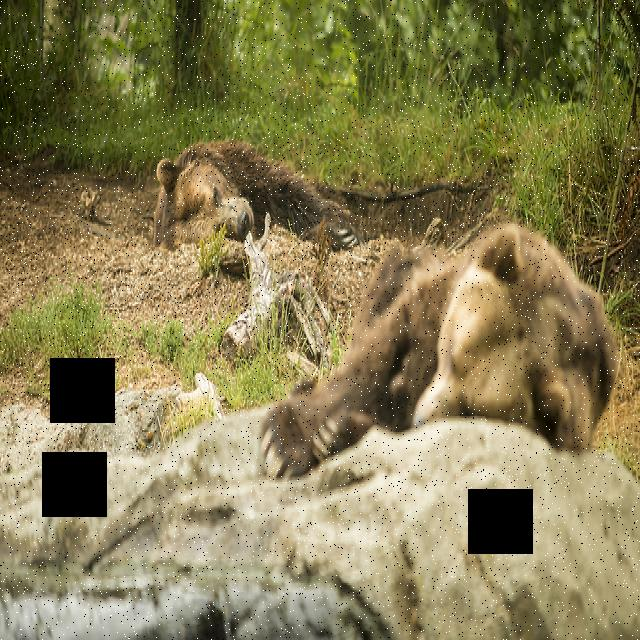Bear: (257, 225, 622, 482), (146, 127, 354, 255)
